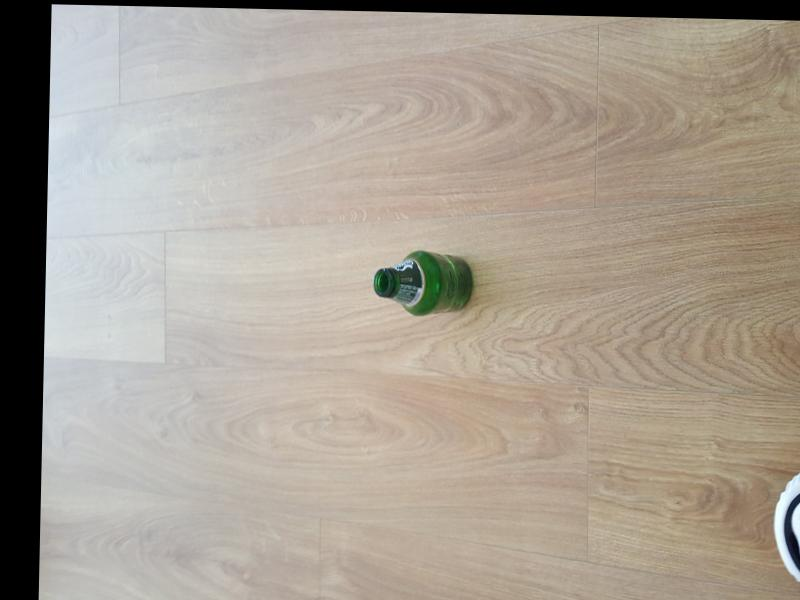Beer: (372, 251, 475, 321)
